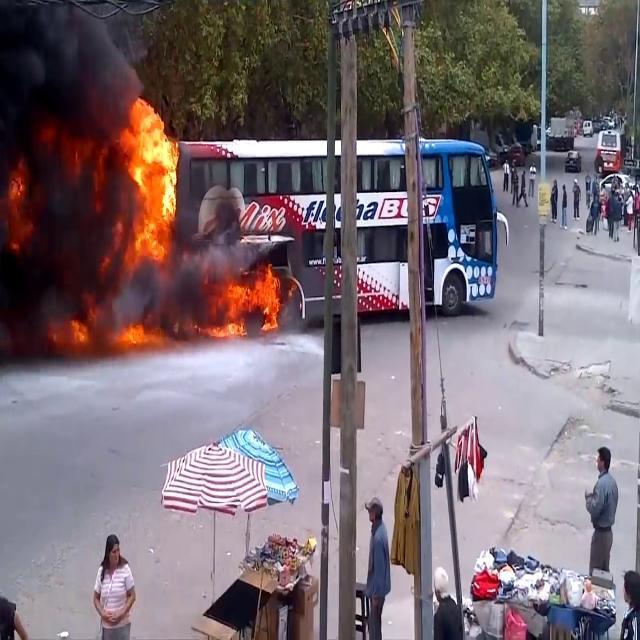Fire: (120, 90, 182, 262), (216, 261, 288, 339), (62, 316, 170, 358)
Smoke: (0, 1, 136, 327)
